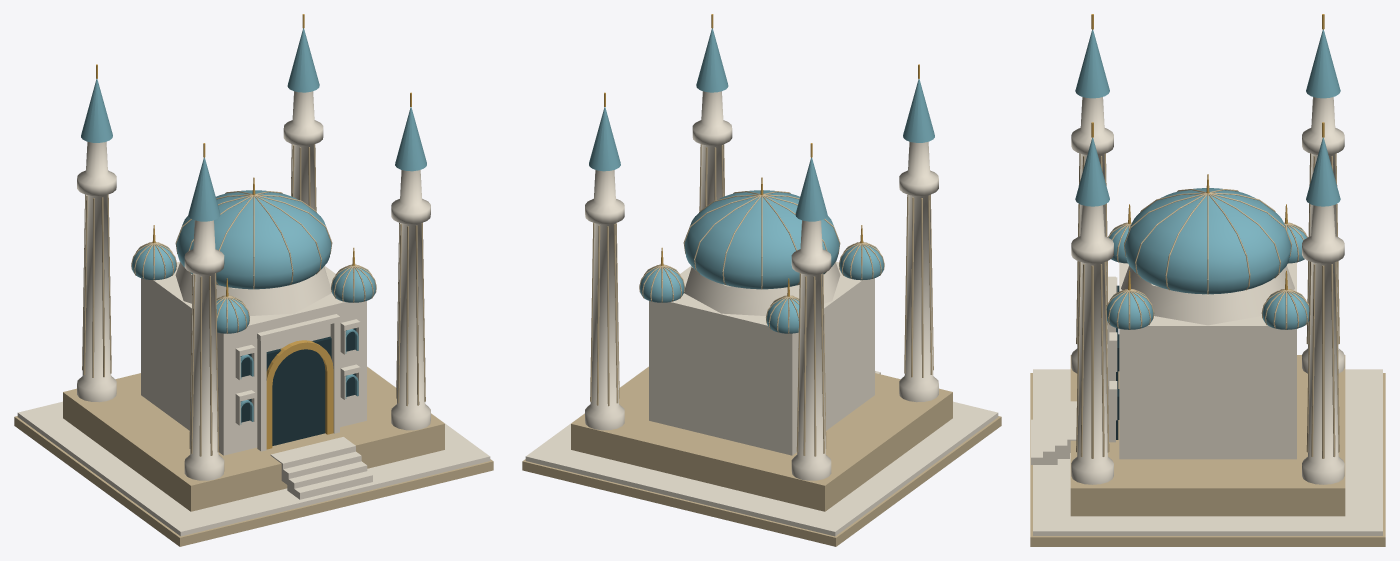
File: kulsharif.glb
The picture shows the model from 3 angles, left to right: view 1: azimuth 30°, elevation 25°; view 2: azimuth 150°, elevation 25°; view 3: azimuth 270°, elevation 25°; orthographic projection. The views are drawn at different scales.
Parts seen in each view (by area): view 1: kulsharif_ivory, kulsharif_stone, kulsharif_glass, kulsharif_ink, kulsharif_gold; view 2: kulsharif_ivory, kulsharif_stone, kulsharif_glass; view 3: kulsharif_ivory, kulsharif_stone, kulsharif_glass, kulsharif_gold.
Part boxes in pixels (<box>): kulsharif_ivory: <box>17,91,490,536</box>; kulsharif_stone: <box>14,144,493,546</box>; kulsharif_glass: <box>81,28,426,424</box>; kulsharif_ink: <box>240,328,356,445</box>; kulsharif_gold: <box>96,14,411,449</box>; kulsharif_ivory: <box>525,91,998,536</box>; kulsharif_stone: <box>522,144,1001,546</box>; kulsharif_glass: <box>589,28,934,333</box>; kulsharif_ivory: <box>1031,97,1382,535</box>; kulsharif_stone: <box>1030,153,1385,546</box>; kulsharif_glass: <box>1075,29,1340,329</box>; kulsharif_gold: <box>1091,14,1324,290</box>.
Bounding box in the file's own units: 5.8 × 6.52 × 5.3.
